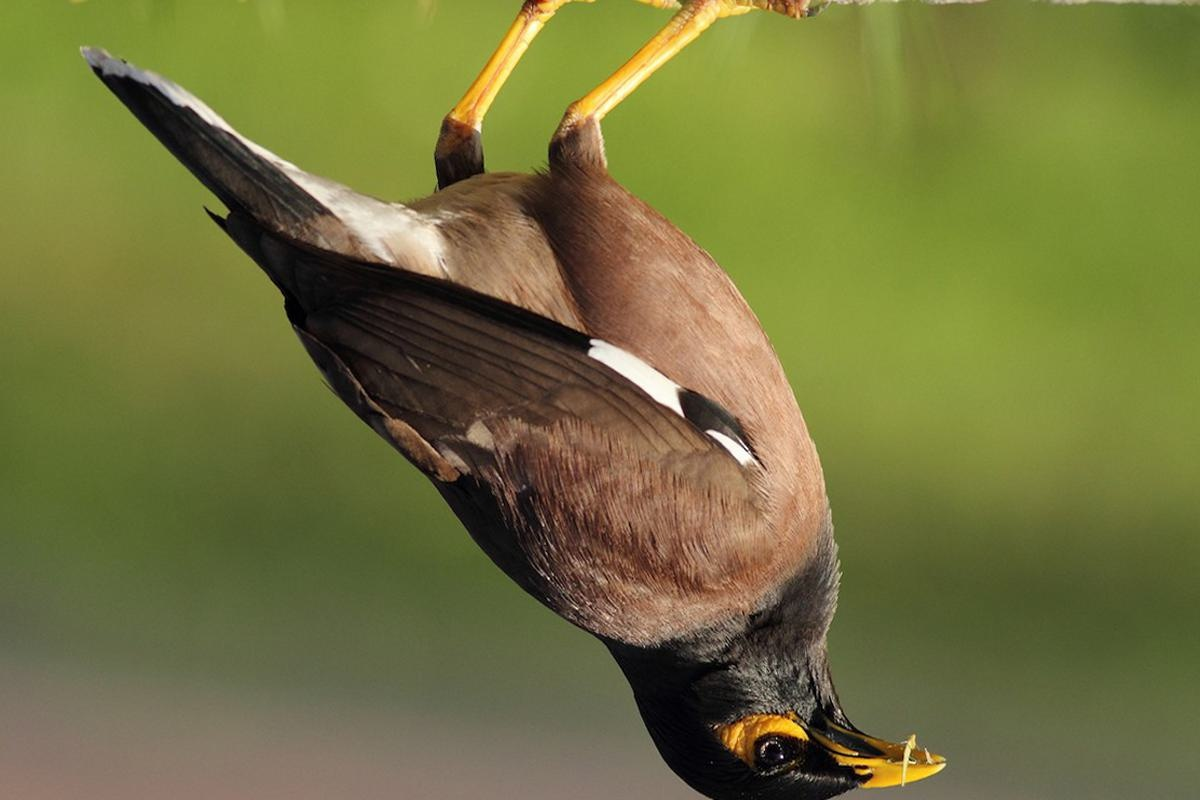myna: (333, 36, 965, 788)
